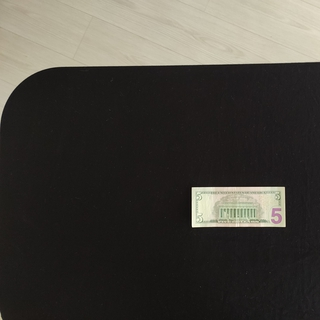5USDBack: (191, 186, 286, 228)
